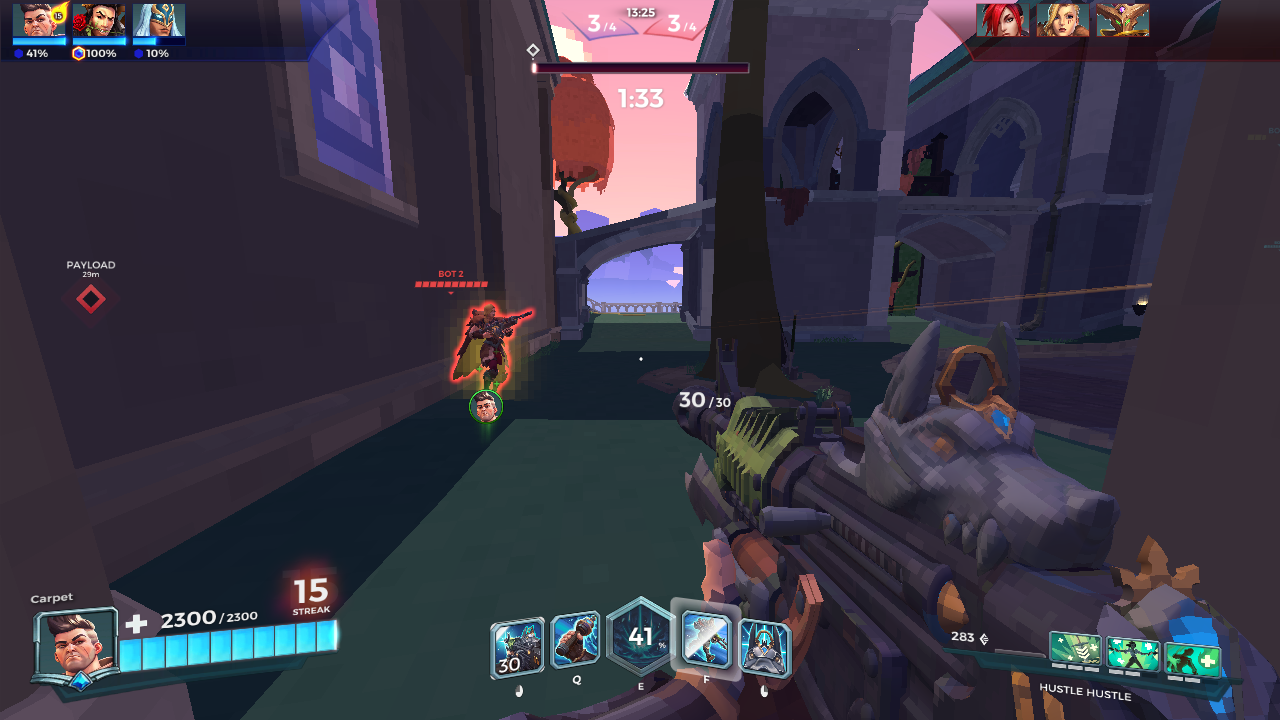model: (451, 297, 515, 392)
